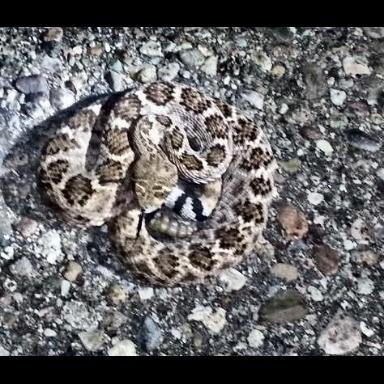snake: (46, 81, 278, 291)
